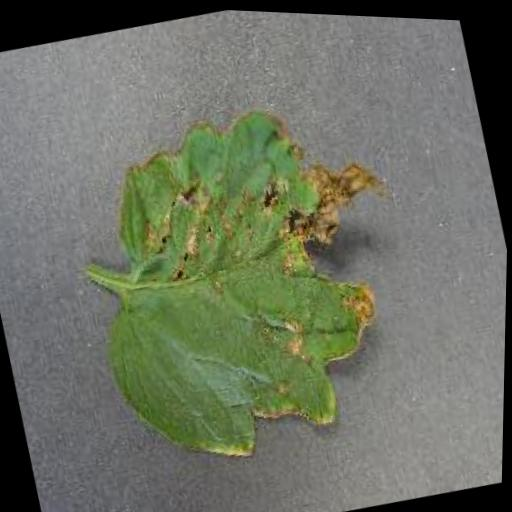Bacterial Spot: (59, 69, 448, 482)
